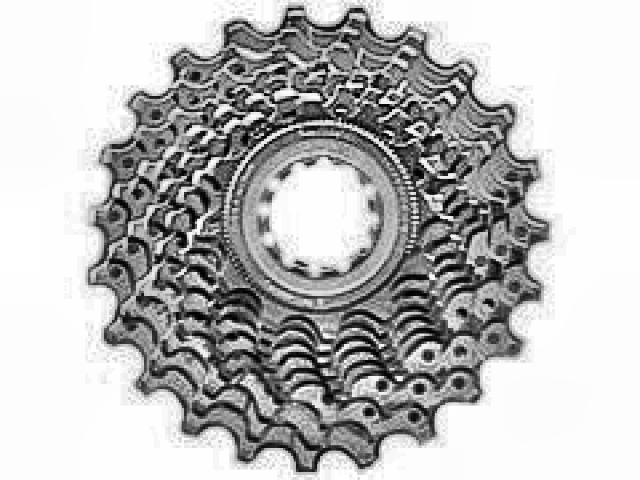cassette: (81, 1, 555, 470)
